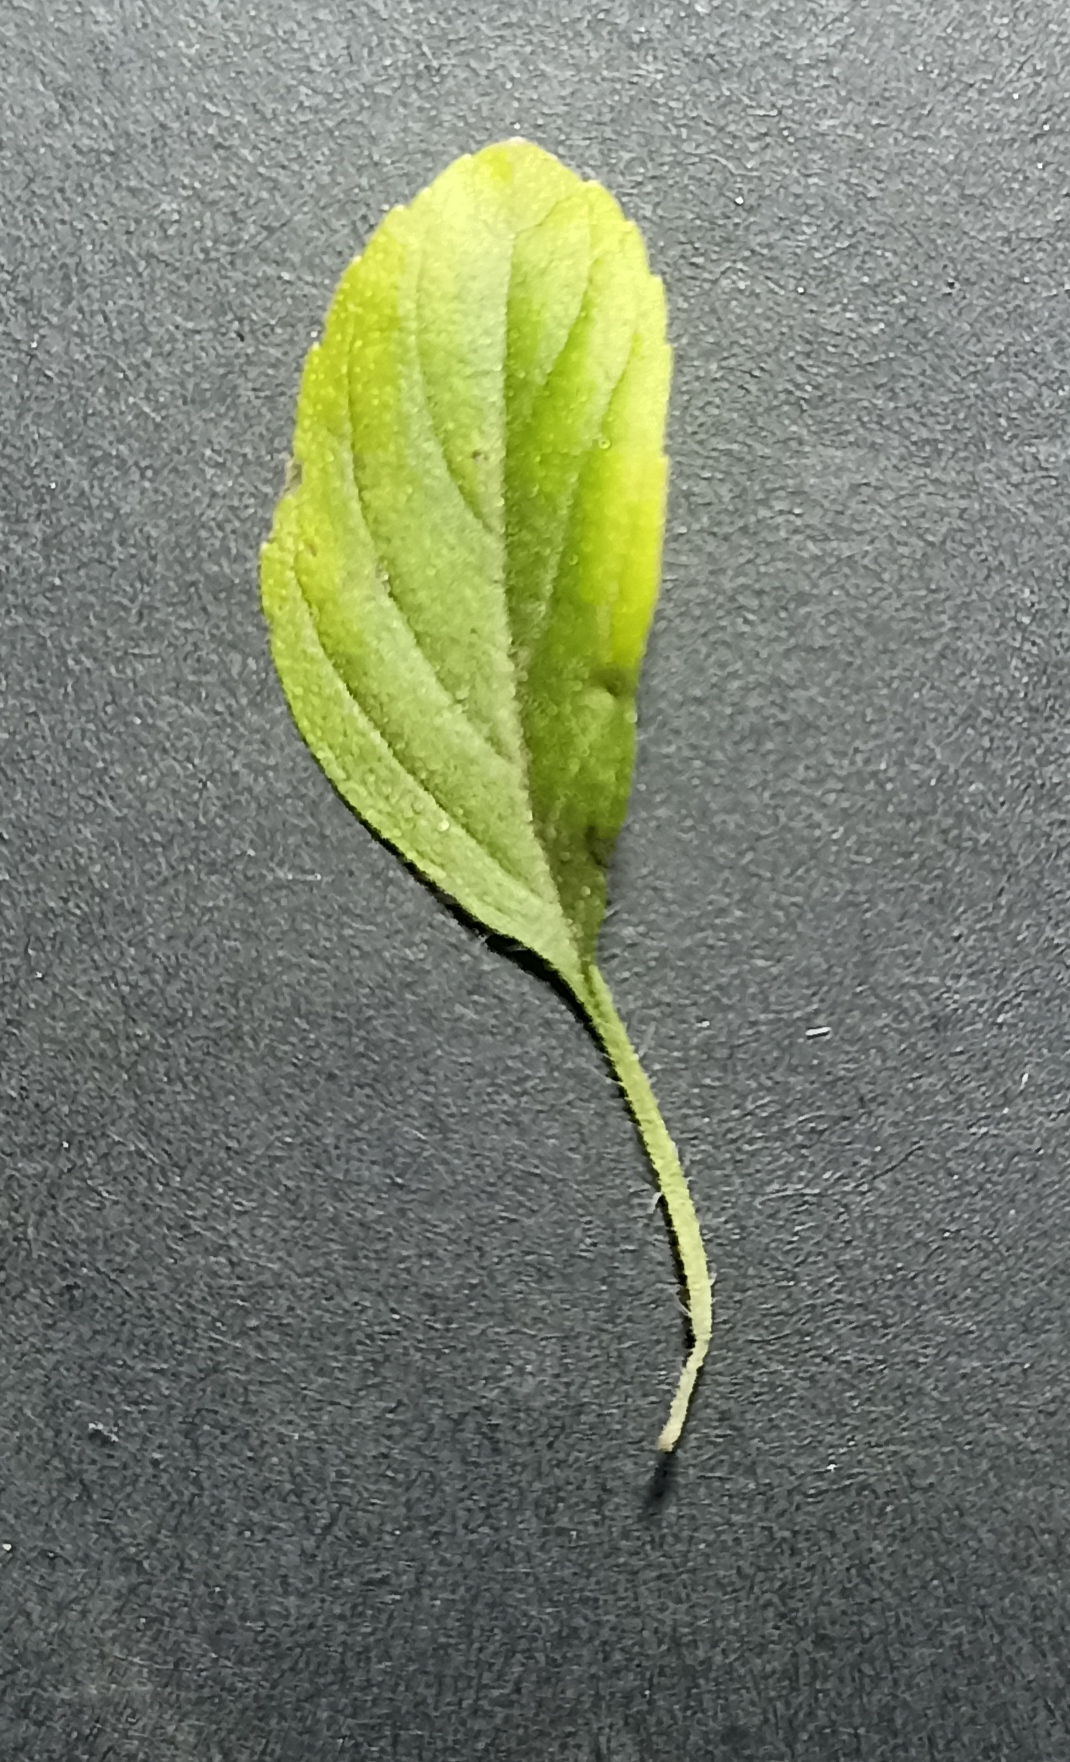Unhealthy: (240, 135, 728, 943)
